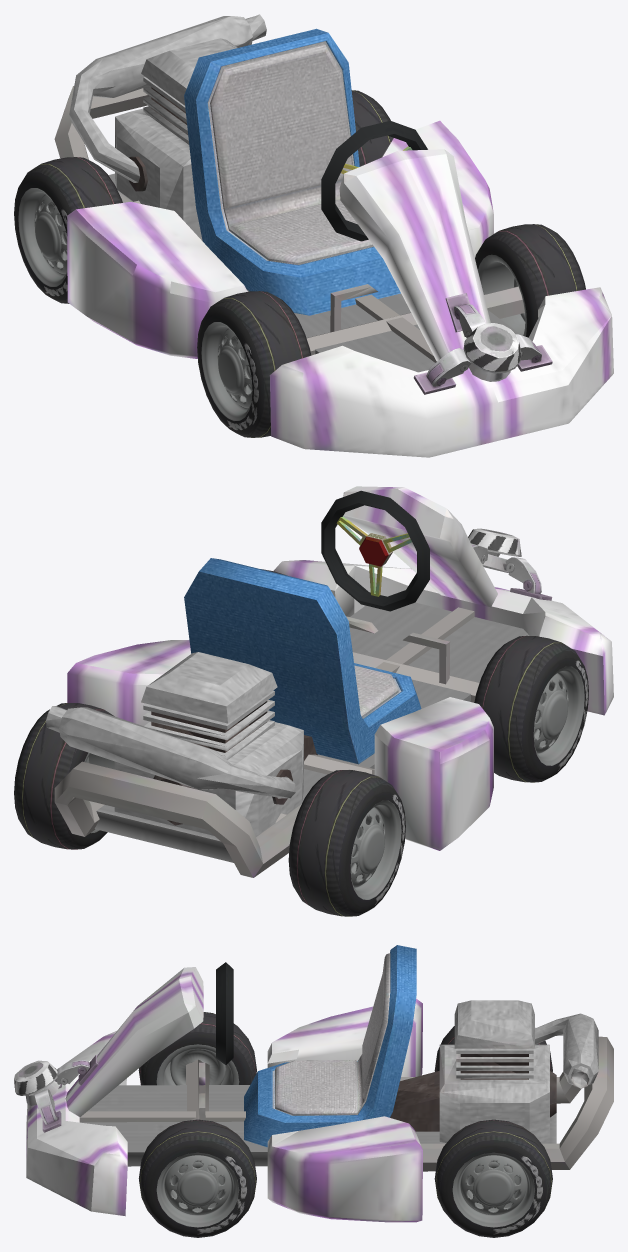
File: 02-Racer-Stock-White.glb
3 renders of one model, top to bottom at view 1: azimuth 30°, elevation 25°; view 2: azimuth 150°, elevation 25°; view 3: azimuth 270°, elevation 25°, orthographic. The views are drawn at different scales.
Visible parts, largest first — view 1: Racer.002, Regular, Tire (×4), Engine_012.001, Aero (×3), Torus, WEAPON MOUNT-Default_OBJ_3, arm1-Default_OBJ_3, arm1.3-Default_OBJ_3; view 2: Racer.002, Tire (×3), Engine_012.001, Regular, Aero (×2), Torus, INT_WHEEL_005, WEAPON MOUNT-Default_OBJ_3, arm1-Default_OBJ_3; view 3: Racer.002, Engine_012.001, Tire (×3), Regular, Aero (×3), Torus, WEAPON MOUNT-Default_OBJ_3, arm1.3-Default_OBJ_3, arm1.1-Default_OBJ_3.
Boxes of the visible parts, left/top/right/bottom form: Racer.002: left=54, top=86, right=613, bottom=457; Regular: left=184, top=28, right=400, bottom=315; Tire (×4): left=14, top=90, right=585, bottom=437; Engine_012.001: left=69, top=14, right=266, bottom=226; Aero (×3): left=18, top=188, right=526, bottom=421; Torus: left=321, top=120, right=427, bottom=241; WEAPON MOUNT-Default_OBJ_3: left=463, top=323, right=521, bottom=381; arm1-Default_OBJ_3: left=426, top=348, right=471, bottom=386; arm1.3-Default_OBJ_3: left=454, top=304, right=485, bottom=338; Racer.002: left=54, top=486, right=613, bottom=877; Tire (×3): left=14, top=635, right=588, bottom=916; Engine_012.001: left=46, top=652, right=317, bottom=835; Regular: left=184, top=558, right=421, bottom=764; Aero (×2): left=350, top=666, right=584, bottom=899; Torus: left=321, top=490, right=429, bottom=611; INT_WHEEL_005: left=336, top=516, right=411, bottom=596; WEAPON MOUNT-Default_OBJ_3: left=468, top=528, right=521, bottom=573; arm1-Default_OBJ_3: left=505, top=557, right=541, bottom=593; Racer.002: left=26, top=967, right=613, bottom=1222; Engine_012.001: left=390, top=1000, right=598, bottom=1142; Tire (×3): left=138, top=1012, right=552, bottom=1237; Regular: left=244, top=945, right=416, bottom=1147; Aero (×3): left=156, top=1044, right=534, bottom=1227; Torus: left=216, top=962, right=233, bottom=1064; WEAPON MOUNT-Default_OBJ_3: left=14, top=1060, right=60, bottom=1105; arm1.3-Default_OBJ_3: left=56, top=1060, right=89, bottom=1085; arm1.1-Default_OBJ_3: left=34, top=1089, right=57, bottom=1124.
Size of the model in its own units: 4.98 by 3.32 by 8.58.
Materials: 8 (8 with a texture image).
